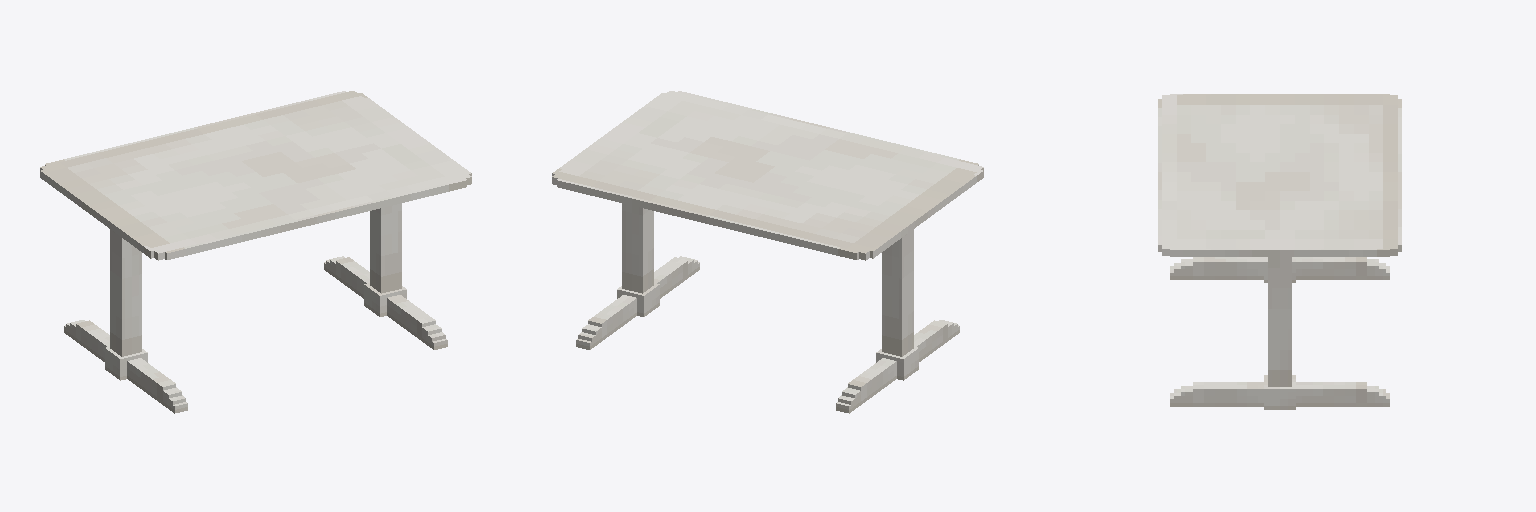
The picture shows the model from 3 angles: view 1: azimuth 30°, elevation 25°; view 2: azimuth 150°, elevation 25°; view 3: azimuth 270°, elevation 25°; orthographic projection.
Parts seen in each view (by area): view 1: Element #3, Element #8, Element #2, Element #10, Element #1, Element #12, Element #4, Element #9, Element #7, Element #5; view 2: Element #3, Element #8, Element #5, Element #10, Element #1, Element #12, Element #4, Element #9, Element #7, Element #2; view 3: Element #3, Element #12, Element #1, Element #10, Element #6, Element #9, Element #2, Element #5.
Part boxes in pixels (left/top/right/bottom): Element #3: left=40, top=91, right=471, bottom=260; Element #8: left=110, top=229, right=141, bottom=356; Element #2: left=165, top=179, right=466, bottom=259; Element #10: left=370, top=203, right=401, bottom=293; Element #1: left=76, top=320, right=175, bottom=404; Element #12: left=336, top=257, right=435, bottom=340; Element #4: left=40, top=170, right=153, bottom=258; Element #9: left=364, top=283, right=406, bottom=316; Element #7: left=105, top=347, right=147, bottom=380; Element #5: left=45, top=91, right=345, bottom=165; Element #3: left=552, top=91, right=983, bottom=260; Element #8: left=882, top=229, right=913, bottom=356; Element #5: left=557, top=179, right=858, bottom=259; Element #10: left=622, top=203, right=653, bottom=293; Element #1: left=848, top=320, right=947, bottom=404; Element #12: left=588, top=257, right=687, bottom=340; Element #4: left=870, top=170, right=983, bottom=258; Element #9: left=617, top=283, right=659, bottom=316; Element #7: left=876, top=347, right=918, bottom=380; Element #2: left=678, top=91, right=978, bottom=165; Element #3: left=1162, top=95, right=1397, bottom=255; Element #12: left=1193, top=382, right=1366, bottom=406; Element #1: left=1193, top=257, right=1366, bottom=279; Element #10: left=1268, top=257, right=1291, bottom=386; Element #6: left=1170, top=249, right=1389, bottom=256; Element #9: left=1264, top=375, right=1295, bottom=409; Element #2: left=1158, top=99, right=1161, bottom=251; Element #5: left=1398, top=99, right=1401, bottom=251.
Bounding box in the file's own units: 47 × 23.5 × 31.
Materials: 1 (1 with a texture image).